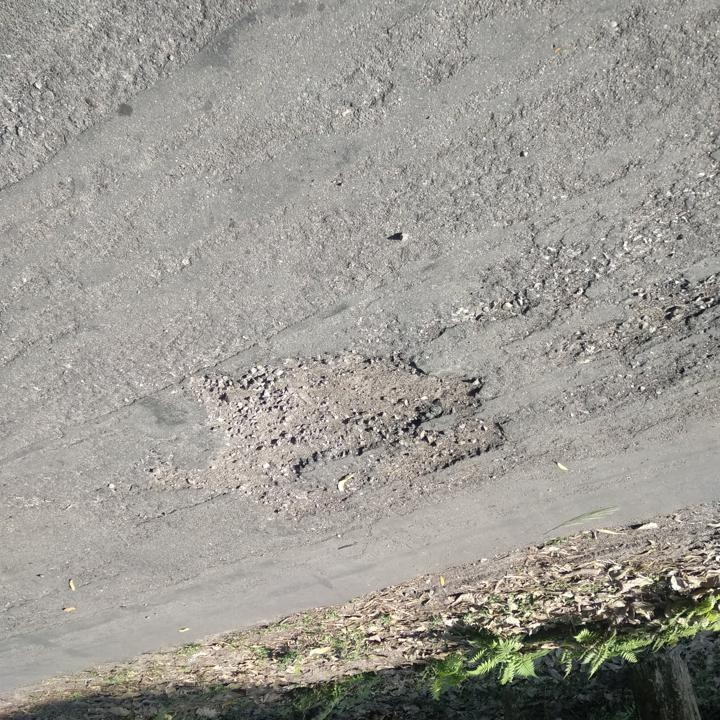pothole: (137, 347, 510, 523)
